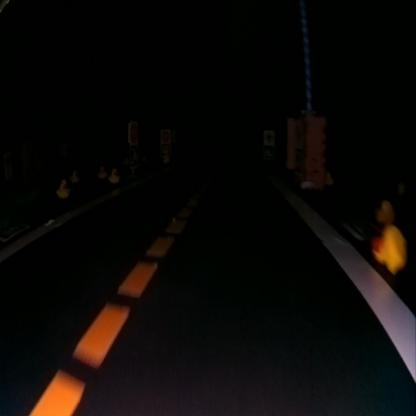Duckie: (372, 226, 405, 272), (376, 200, 393, 223), (57, 178, 69, 196), (108, 167, 118, 181), (69, 168, 78, 183)
Intersection sign: (262, 129, 274, 144)
Stop sign: (160, 129, 170, 142)
